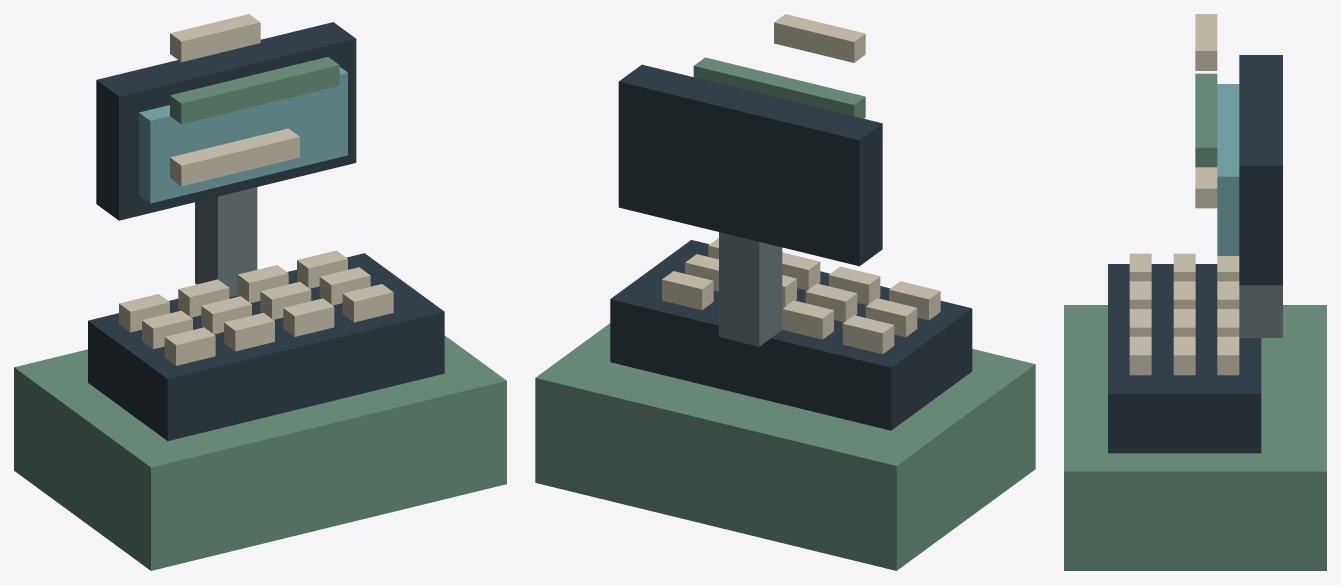
The model's file is finance-18.glb.
3 renders of one model, left to right at view 1: azimuth 30°, elevation 25°; view 2: azimuth 150°, elevation 25°; view 3: azimuth 270°, elevation 25°, orthographic. The views are drawn at different scales.
Parts seen in each view (by area): view 1: Currency sorter; view 2: Currency sorter; view 3: Currency sorter.
Boxes of the visible parts, x1,y1,x2,y2 form: Currency sorter: (14,14,506,570); Currency sorter: (535,14,1035,570); Currency sorter: (1064,14,1326,570).
Size of the model in its own units: 1.44 by 1.76 by 0.96.
